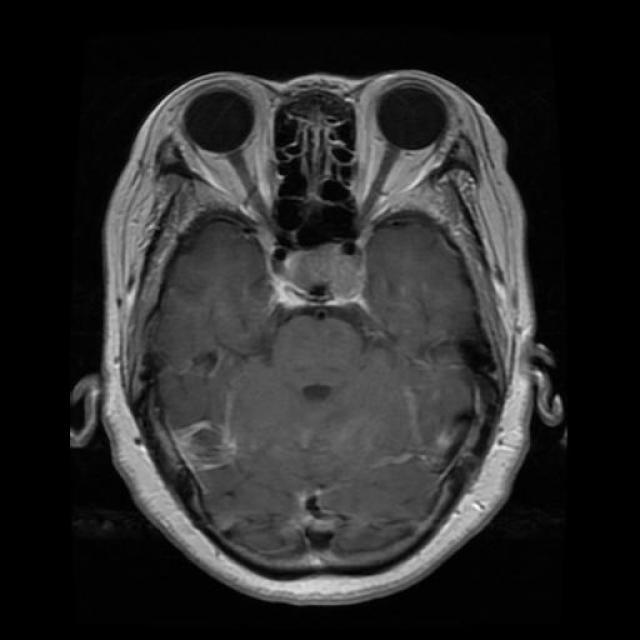pituitary: (267, 248, 374, 316)
